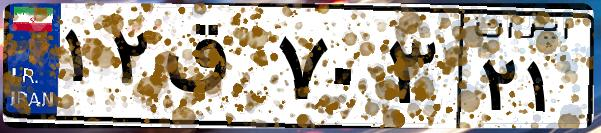0: (330, 28, 385, 110)
1: (57, 26, 110, 100), (525, 38, 570, 115)
2: (475, 38, 525, 113), (110, 28, 158, 98)
3: (385, 28, 445, 110)
7: (270, 28, 330, 110)
ق: (158, 20, 270, 120)
